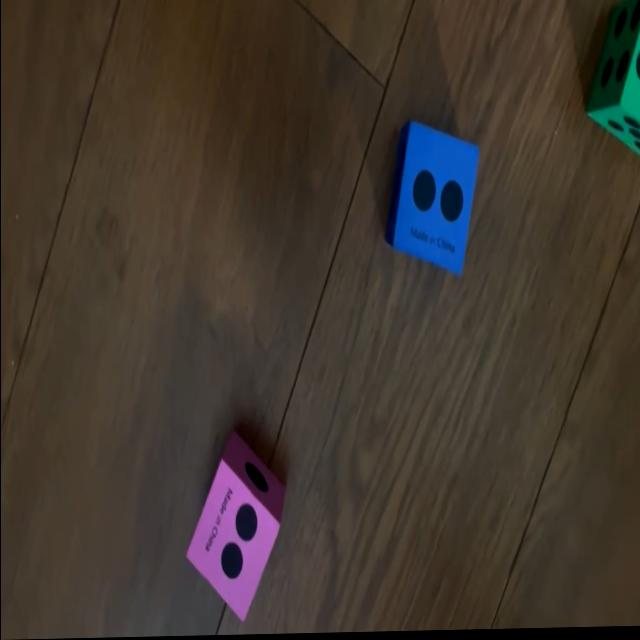cube: (385, 121, 477, 277), (587, 1, 640, 162)
